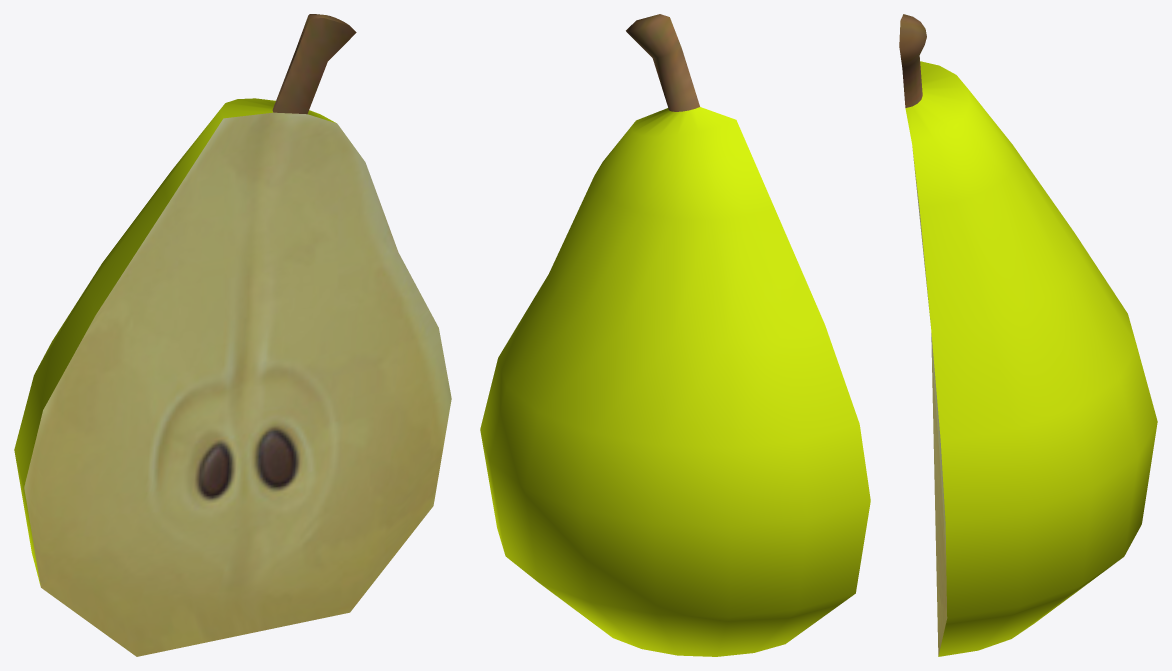
Rendered from green_pear.glb.
3 renders of one model, left to right at view 1: azimuth 30°, elevation 25°; view 2: azimuth 150°, elevation 25°; view 3: azimuth 270°, elevation 25°, orthographic. The views are drawn at different scales.
Visible parts, largest first — view 1: green_pear; view 2: green_pear; view 3: green_pear.
Boxes of the visible parts, <box> form: green_pear: <box>14,14,451,656</box>; green_pear: <box>480,14,870,656</box>; green_pear: <box>899,14,1157,656</box>.
Size of the model in its own units: 0.5605 by 0.8032 by 0.3058.
1 material, 1 textured.
